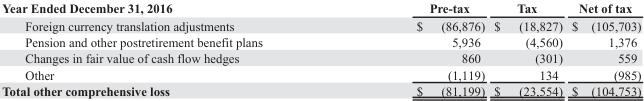table: (1, 1, 640, 97)
table column: (1, 1, 338, 97), (338, 1, 488, 97), (488, 1, 566, 97), (566, 1, 640, 97)
table column header: (1, 1, 640, 16)
table row: (1, 16, 640, 33), (1, 33, 640, 50), (1, 50, 640, 66), (1, 66, 640, 82), (1, 1, 640, 16), (1, 82, 640, 97)
